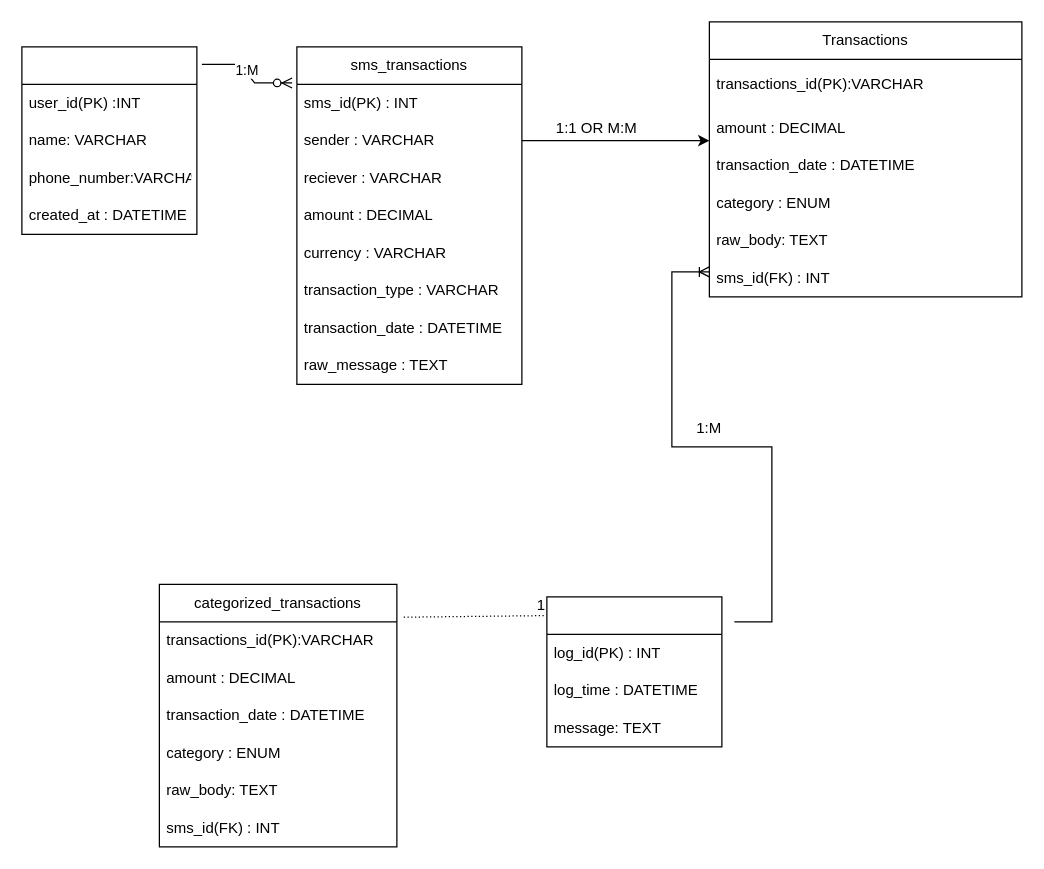
Image size: 1044x869. Some labels were removed from this diagram. Here are the shapes that lost their labels. From the top down, the box of each, then its label:
(21, 46, 197, 234): users
(546, 596, 722, 747): System_Logs
